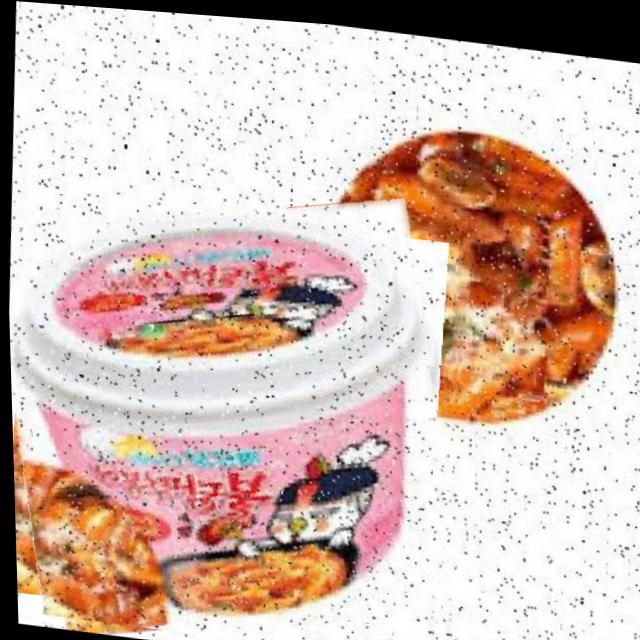Miscellaneous: (4, 166, 478, 640)
